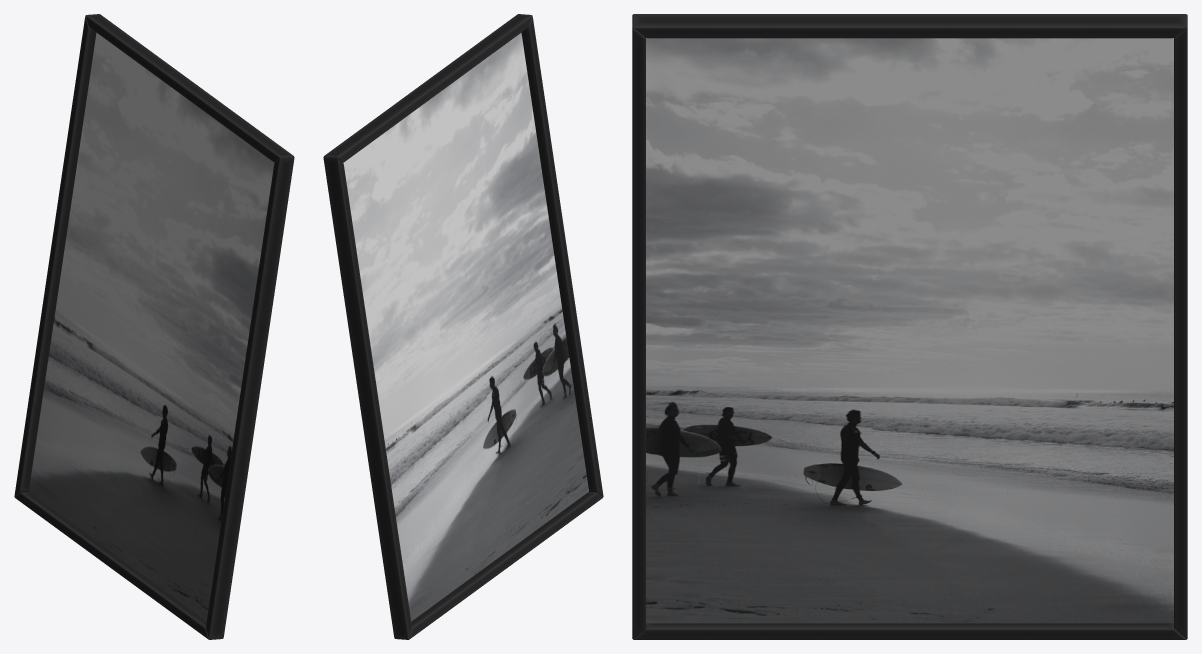
Rendered from frame1.obj.
3 views of the same model, side by side, from view 1: azimuth 30°, elevation 25°; view 2: azimuth 150°, elevation 25°; view 3: azimuth 270°, elevation 25° (orthographic). The views are drawn at different scales.
Parts seen in each view (by area): view 1: FRAME_01; view 2: FRAME_01; view 3: FRAME_01.
Part boxes in pixels (box(x1,y1,x2,y2)): FRAME_01: box(14, 14, 294, 639); FRAME_01: box(323, 14, 603, 639); FRAME_01: box(632, 14, 1187, 639).
Bounding box in the file's own units: 0.0796 × 0.4137 × 0.3128.
